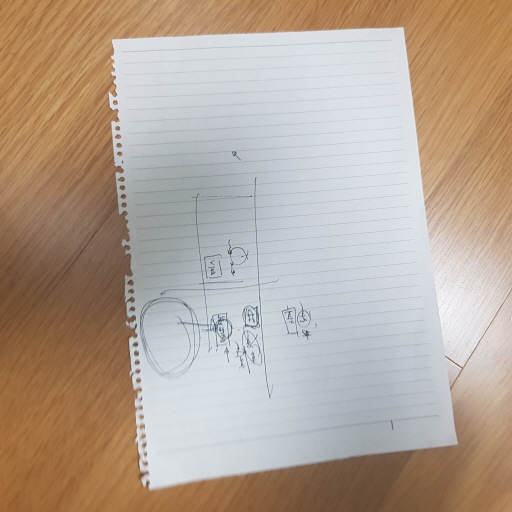Paper_2: (95, 22, 469, 495)
